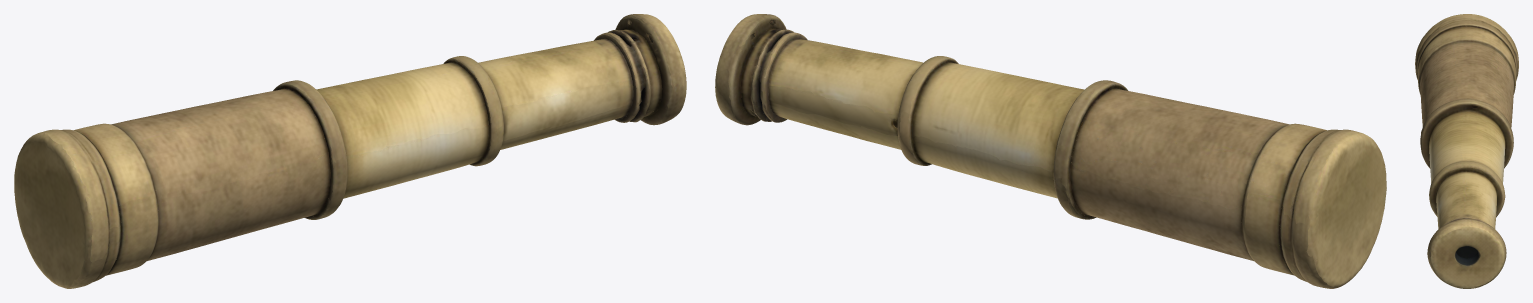
Rendered from parts.glb.
3 renders of one model, left to right at view 1: azimuth 30°, elevation 25°; view 2: azimuth 150°, elevation 25°; view 3: azimuth 270°, elevation 25°, orthographic. The views are drawn at different scales.
Bounding box in the file's own units: 0.38 × 0.087 × 0.0849.
6 materials, 6 textured.
